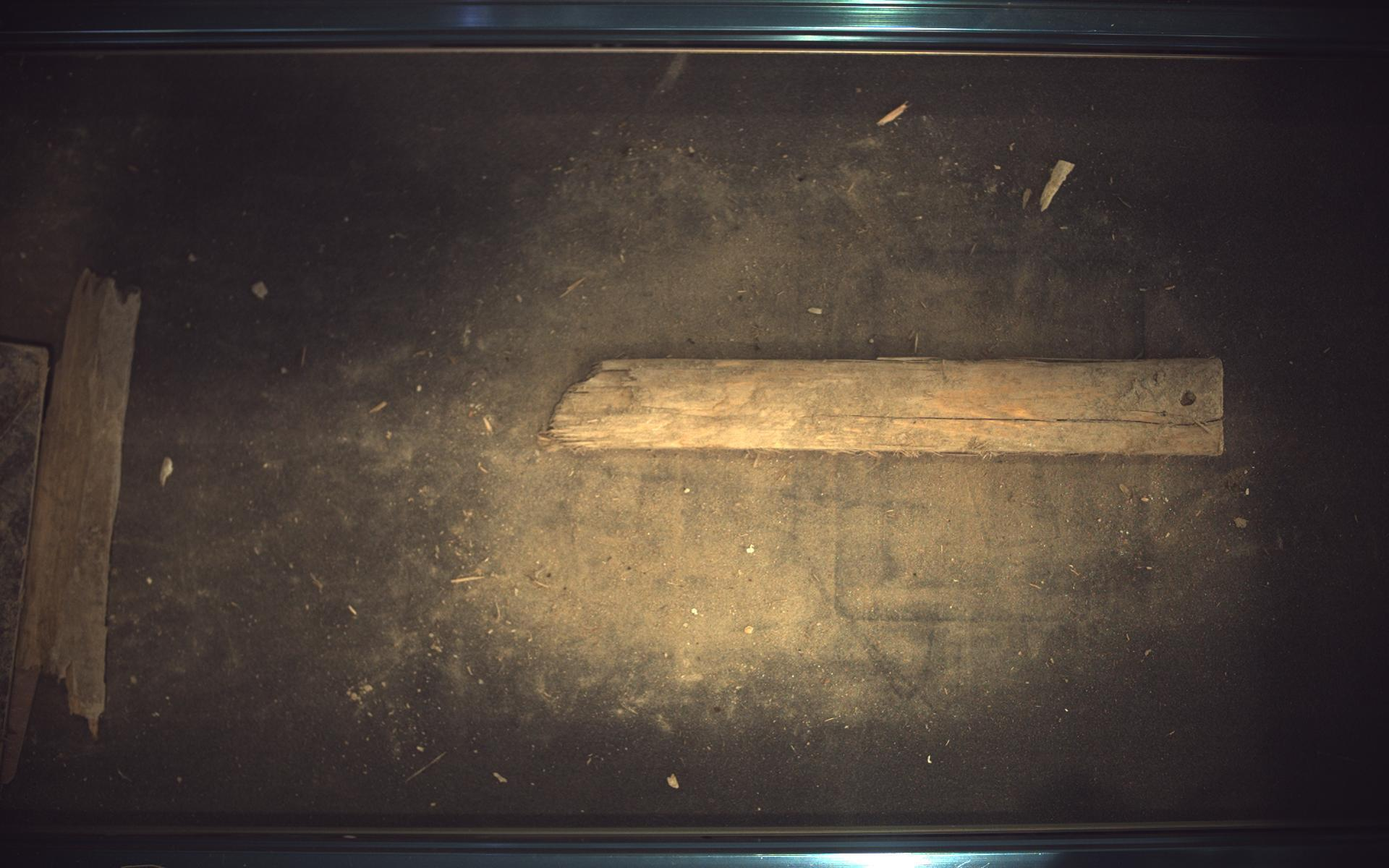wood: (1, 268, 140, 785), (540, 357, 1226, 456), (1, 342, 47, 748)
